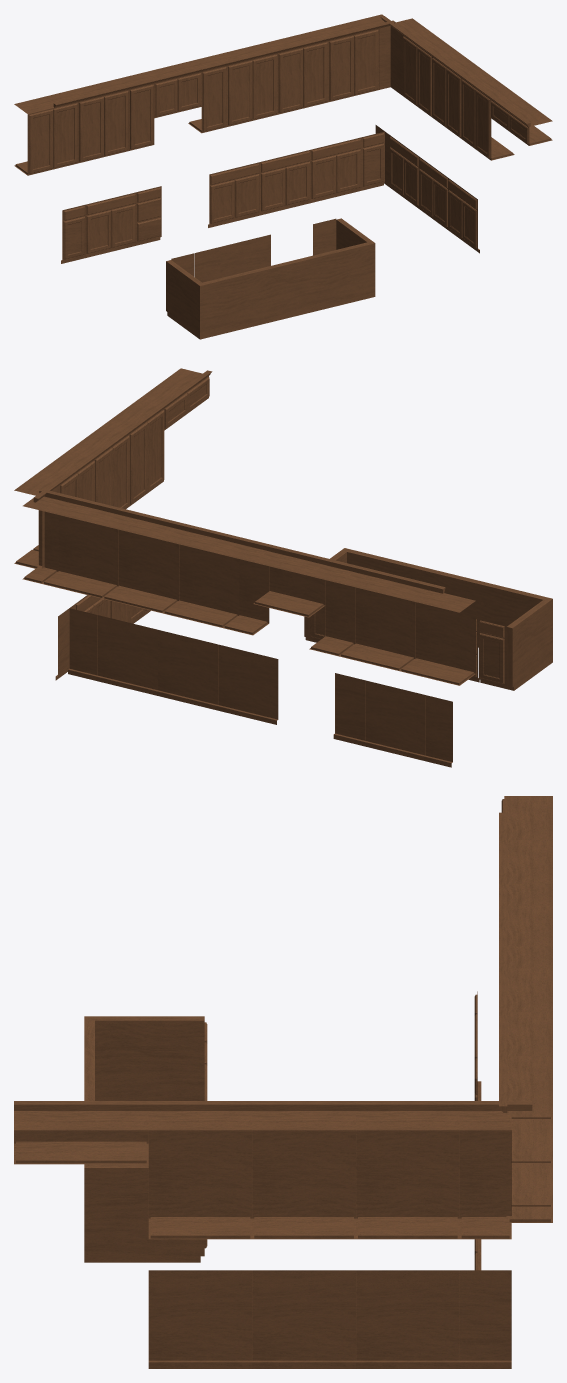
File: 1989_kitchen_cabinets_truffle.gltf
3 renders of one model, top to bottom at view 1: azimuth 30°, elevation 25°; view 2: azimuth 150°, elevation 25°; view 3: azimuth 270°, elevation 25°, orthographic. The views are drawn at different scales.
Visible parts, largest first — view 1: Line23387; view 2: Line23387; view 3: Line23387.
Part boxes in pixels (<box>): Line23387: <box>14,14,552,339</box>; Line23387: <box>14,368,552,767</box>; Line23387: <box>14,796,552,1368</box>.
Bounding box in the file's own units: 7.63 × 2.93 × 5.2.
1 material, 1 textured.
